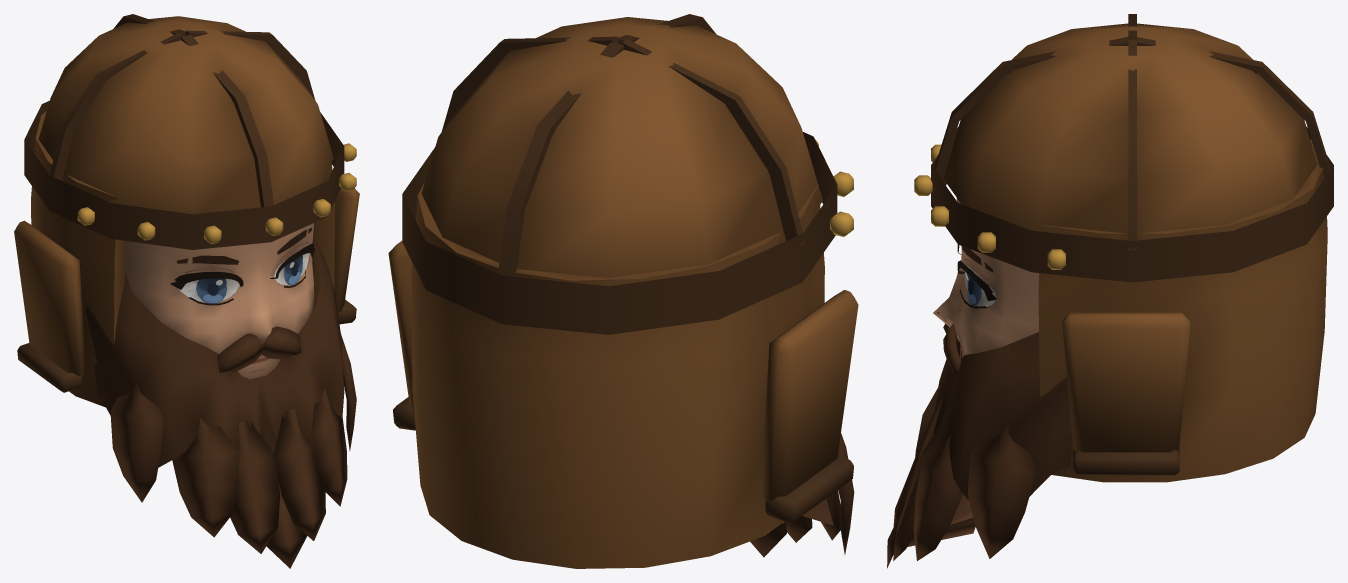
The model's file is h_cap_d.glb.
3 renders of one model, left to right at view 1: azimuth 30°, elevation 25°; view 2: azimuth 150°, elevation 25°; view 3: azimuth 270°, elevation 25°, orthographic. The views are drawn at different scales.
Visible parts, largest first — view 1: Cap, BeardLocks, Beard, HeadMesh, Mustache, LashR, EyeWhiteR; view 2: Cap, BeardLocks; view 3: Cap, Beard, BeardLocks, HeadMesh, BeardUnder, Mustache.
Boxes of the visible parts, box(x1,y1,x2,y2) form: Cap: box(14, 14, 359, 407); BeardLocks: box(110, 330, 356, 568); Beard: box(85, 232, 344, 467); HeadMesh: box(125, 223, 314, 379); Mustache: box(217, 326, 301, 372); LashR: box(170, 272, 243, 305); EyeWhiteR: box(179, 278, 239, 302); Cap: box(388, 14, 858, 568); BeardLocks: box(750, 433, 854, 557); Cap: box(914, 14, 1333, 482); Beard: box(933, 332, 1072, 499); BeardLocks: box(887, 387, 1035, 568); HeadMesh: box(933, 198, 1038, 356); BeardUnder: box(907, 494, 975, 546); Mustache: box(943, 323, 961, 377).
Bounding box in the file's own units: 0.2617 × 0.3843 × 0.2929.
